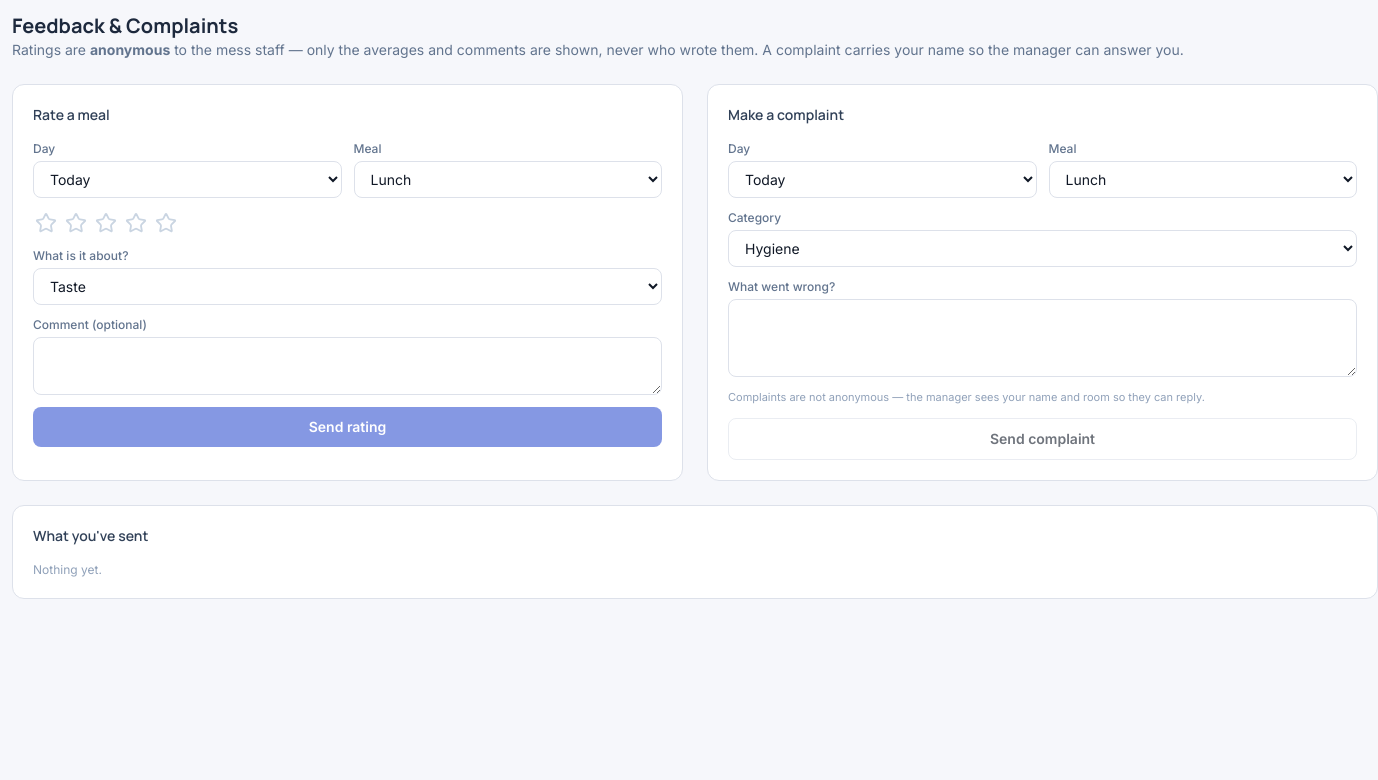
Feedback — student › a rating needs stars; sending it posts exactly what was chosen
Expected: the button "Send rating" is disabled, [33,407,662,447]
Click the radio button named "4 stars".
click(136, 223)  # box [123,210,149,236]
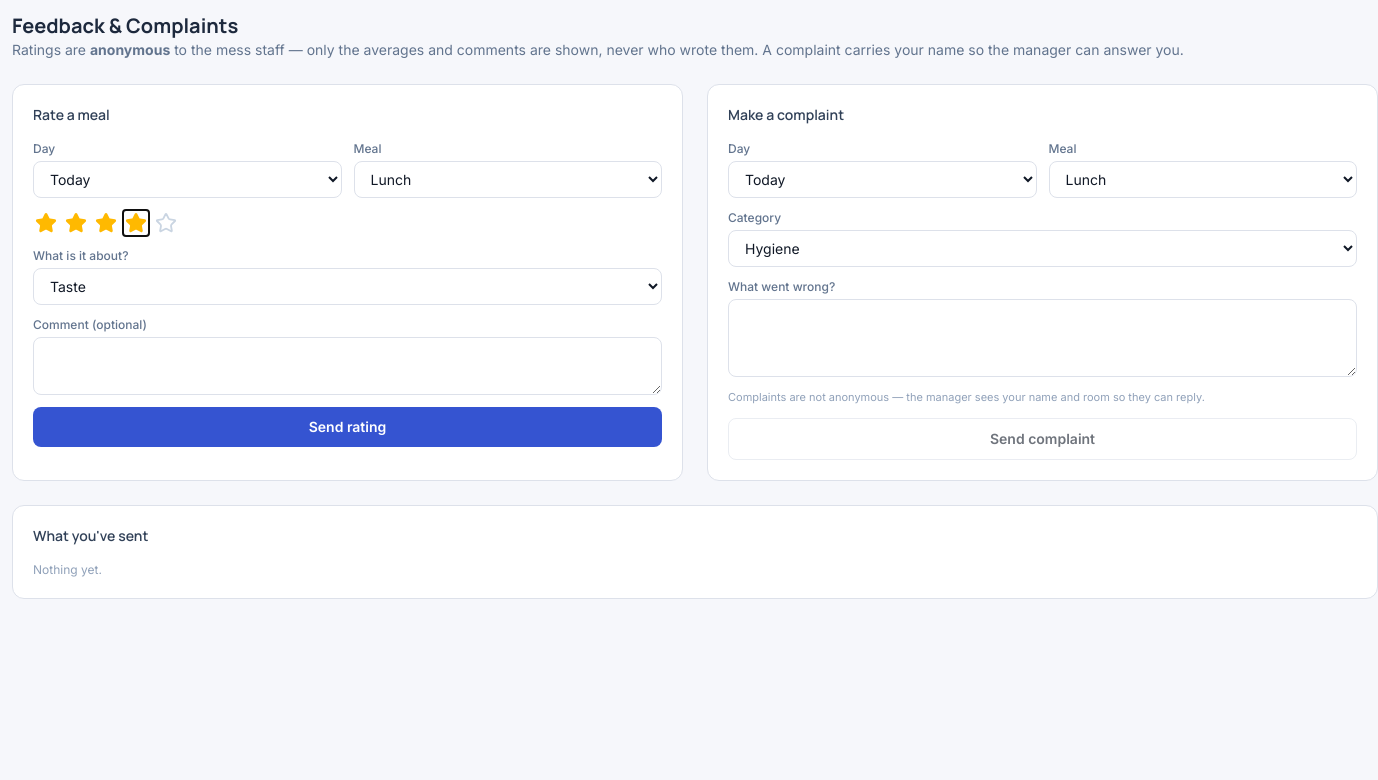
Select "Dinner" in the dropdown labelled "Meal" below "Rate a meal" at (508,180), box [354,161,662,198]
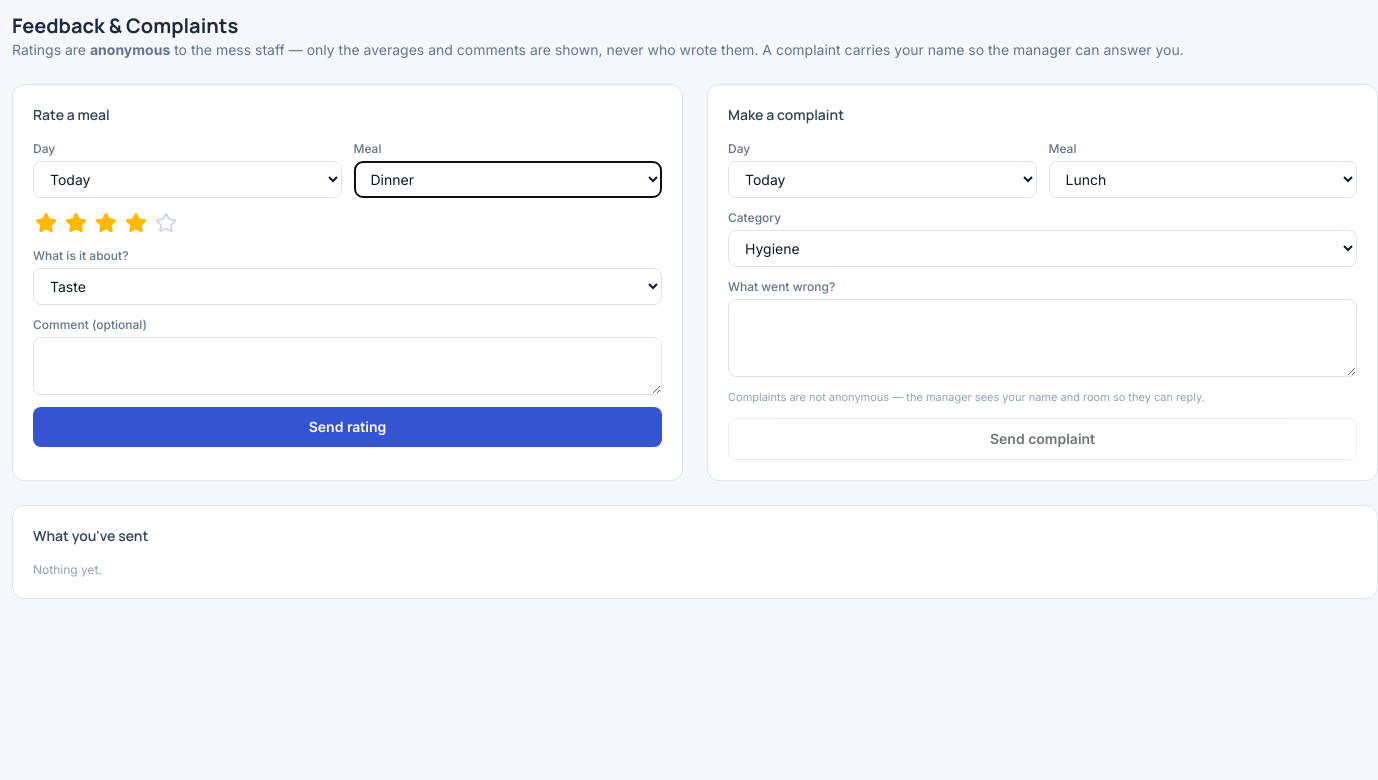
Select "Quantity" in the dropdown named "Category" at (348,286), box [33,268,662,305]
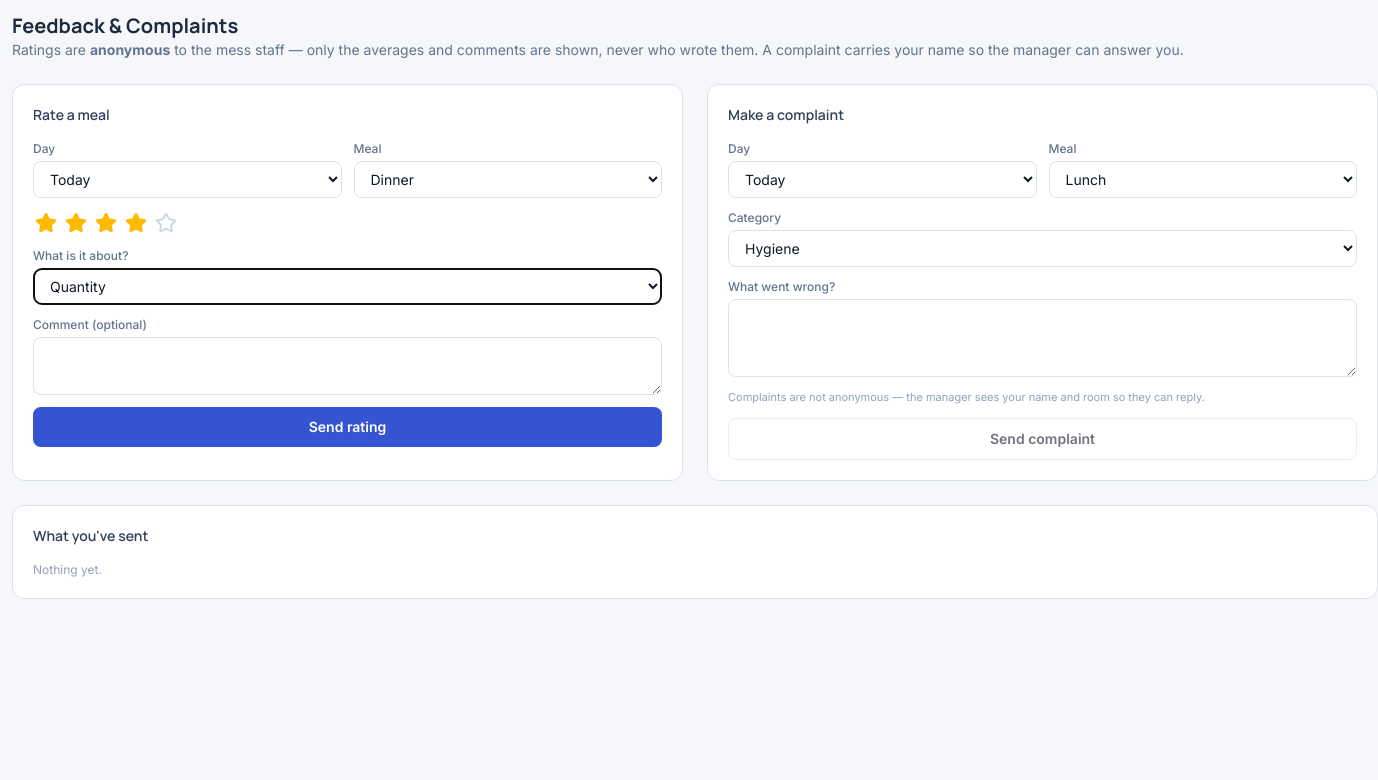
Click the button "Send rating".
click(348, 427)  # box [33,407,662,447]
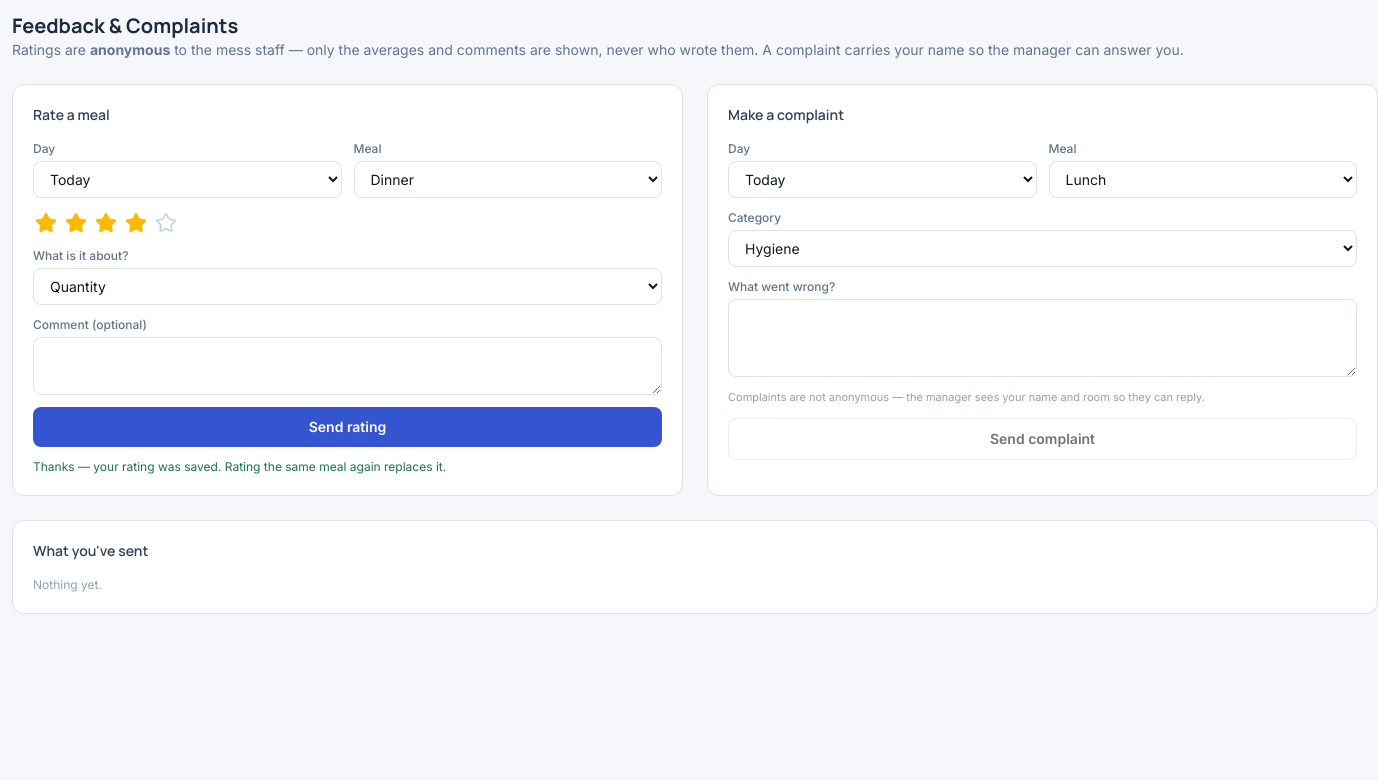
Result: the message shows "rating was saved" at [33,459,446,474]
